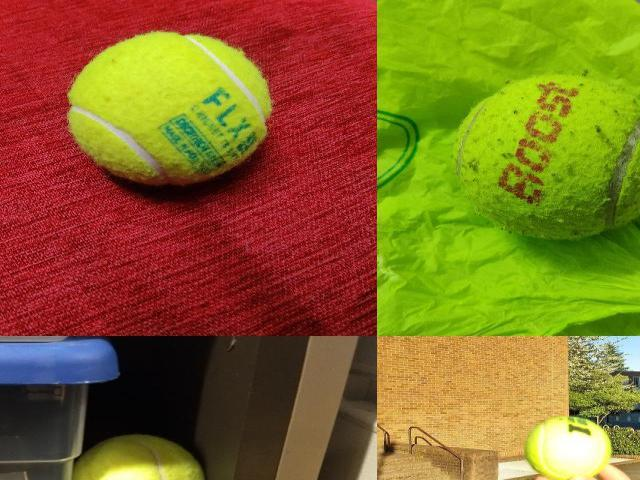tennis-ball: (67, 30, 273, 186), (451, 74, 639, 238), (522, 415, 613, 479), (83, 433, 207, 479)
